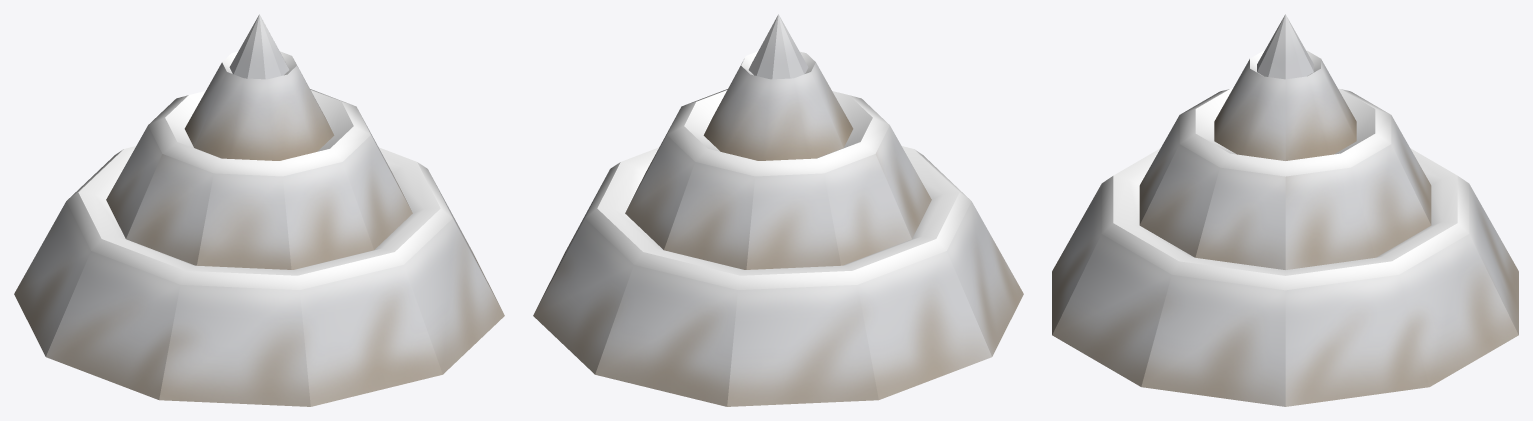
The model's file is Whipped_cream.fbx.
3 views of the same model, side by side, from view 1: azimuth 30°, elevation 25°; view 2: azimuth 150°, elevation 25°; view 3: azimuth 270°, elevation 25° (orthographic).
Visible parts, largest first — view 1: Whipped_cream; view 2: Whipped_cream; view 3: Whipped_cream.
Boxes of the visible parts, <box> form: Whipped_cream: <box>14,14,504,406</box>; Whipped_cream: <box>533,14,1023,406</box>; Whipped_cream: <box>1052,14,1518,406</box>.
Bounding box in the file's own units: 1.08 × 0.7027 × 1.03.
